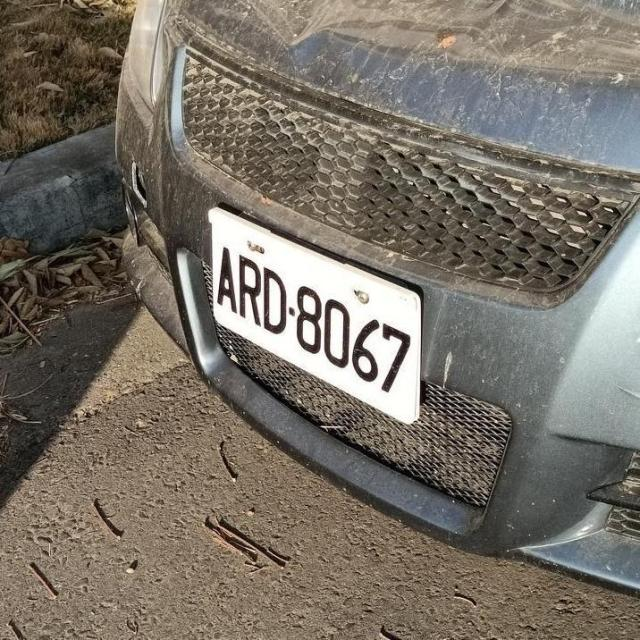W: (192, 203, 440, 441)
